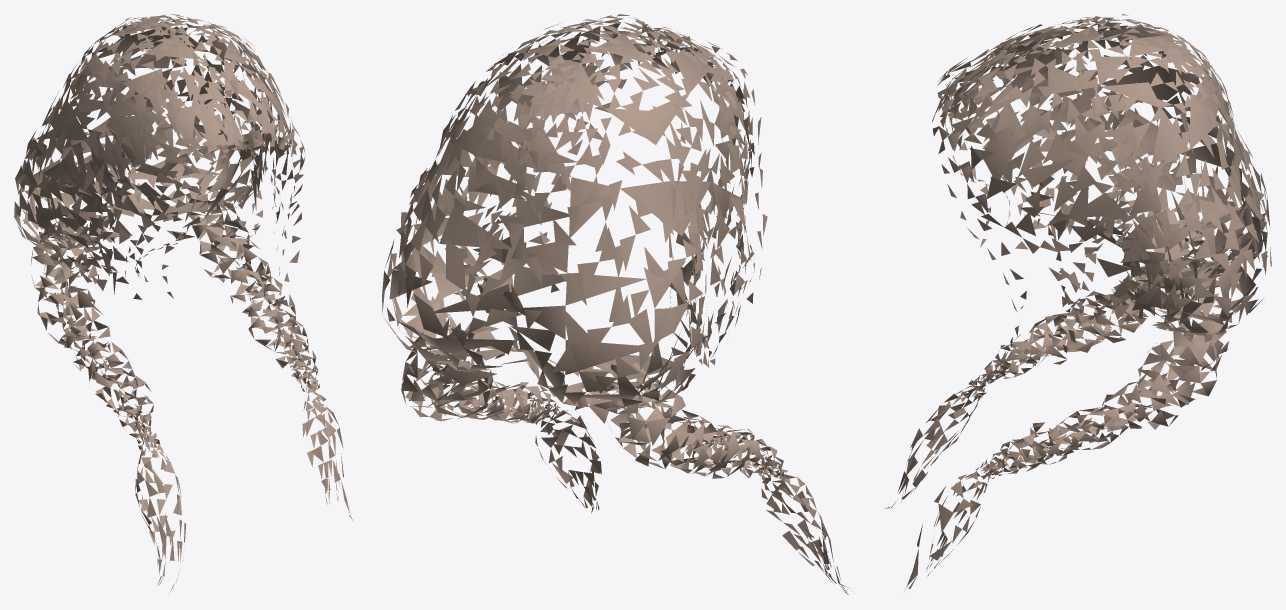
File: female_hair_10_lod1.glb
The picture shows the model from 3 angles, left to right: view 1: azimuth 30°, elevation 25°; view 2: azimuth 150°, elevation 25°; view 3: azimuth 270°, elevation 25°; orthographic projection. The views are drawn at different scales.
Parts seen in each view (by area): view 1: female-hair-10; view 2: female-hair-10; view 3: female-hair-10.
Boxes of the visible parts, <box> form: female-hair-10: <box>14,14,353,594</box>; female-hair-10: <box>382,14,851,594</box>; female-hair-10: <box>885,14,1271,589</box>.
Bounding box in the file's own units: 0.2251 × 0.421 × 0.2752.
